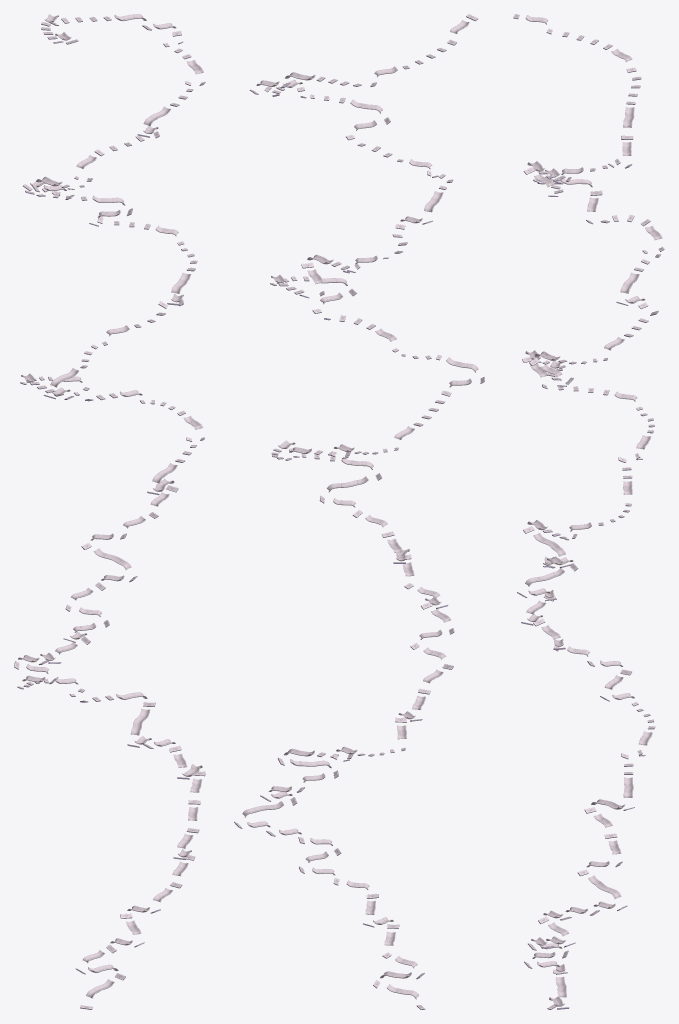
File: C-route-v027-19.glb
3 renders of one model, left to right at view 1: azimuth 30°, elevation 25°; view 2: azimuth 150°, elevation 25°; view 3: azimuth 270°, elevation 25°, orthographic.
Size of the model in its own units: 0.4685 by 2.14 by 0.3008.
5 materials, 1 textured.
